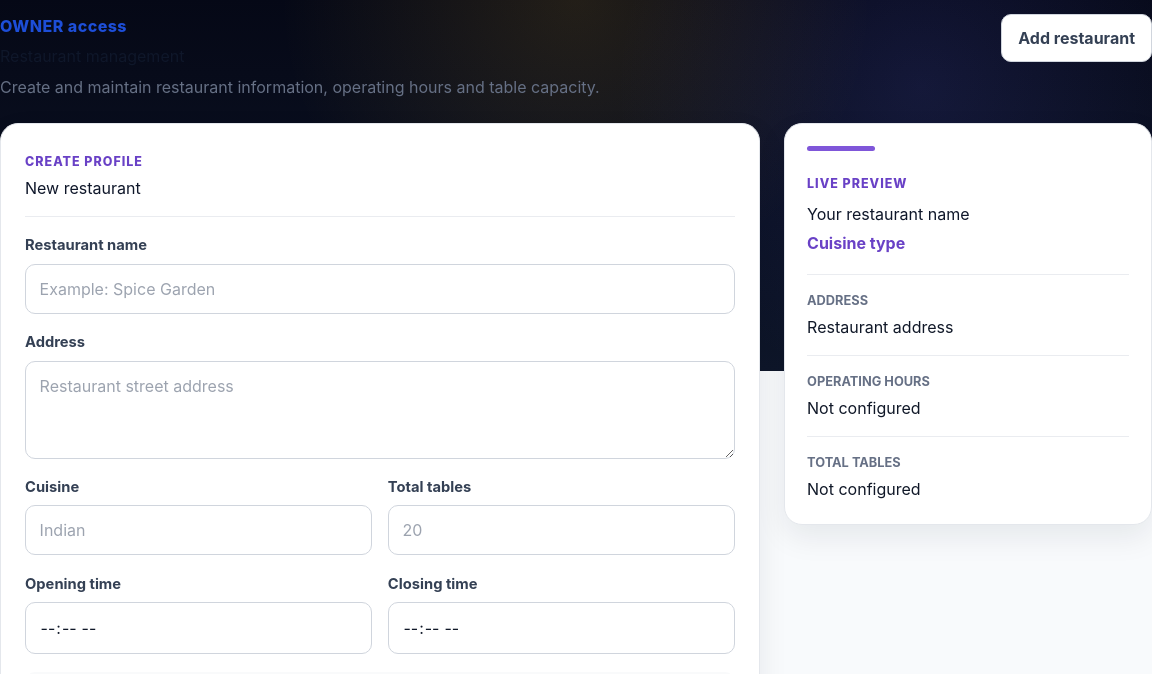
Test: OwnerPage › creates a restaurant and shows success state
In the field labelled "Restaurant name": coordinates (380, 289) [25, 264, 735, 314], type "New Restaurant"
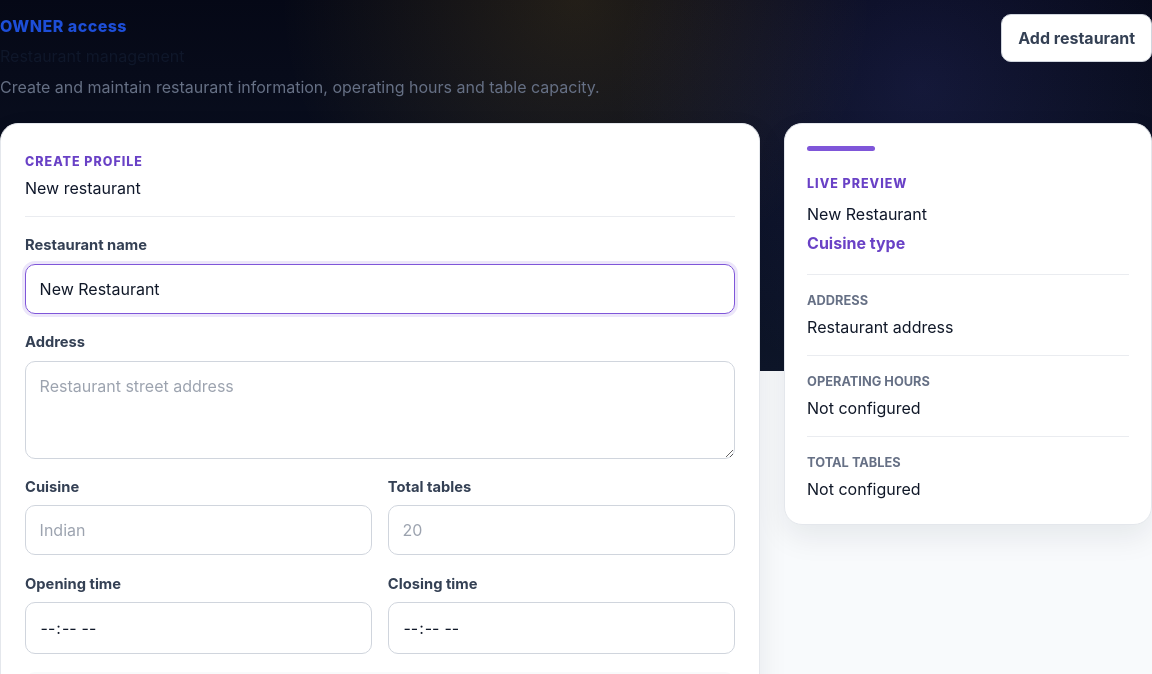
In the text box labelled "Address": coordinates (380, 410) [25, 360, 735, 458], type "45 Lake Road"
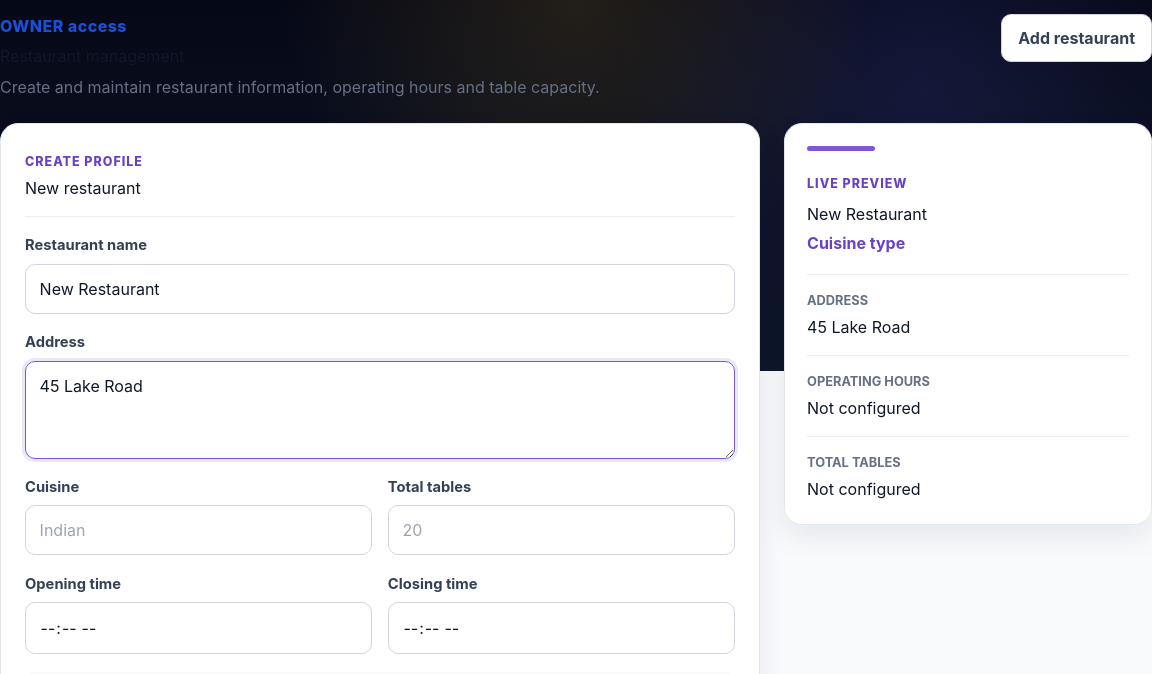
In the field labelled "Cuisine": coordinates (198, 530) [25, 505, 372, 555], type "Continental"
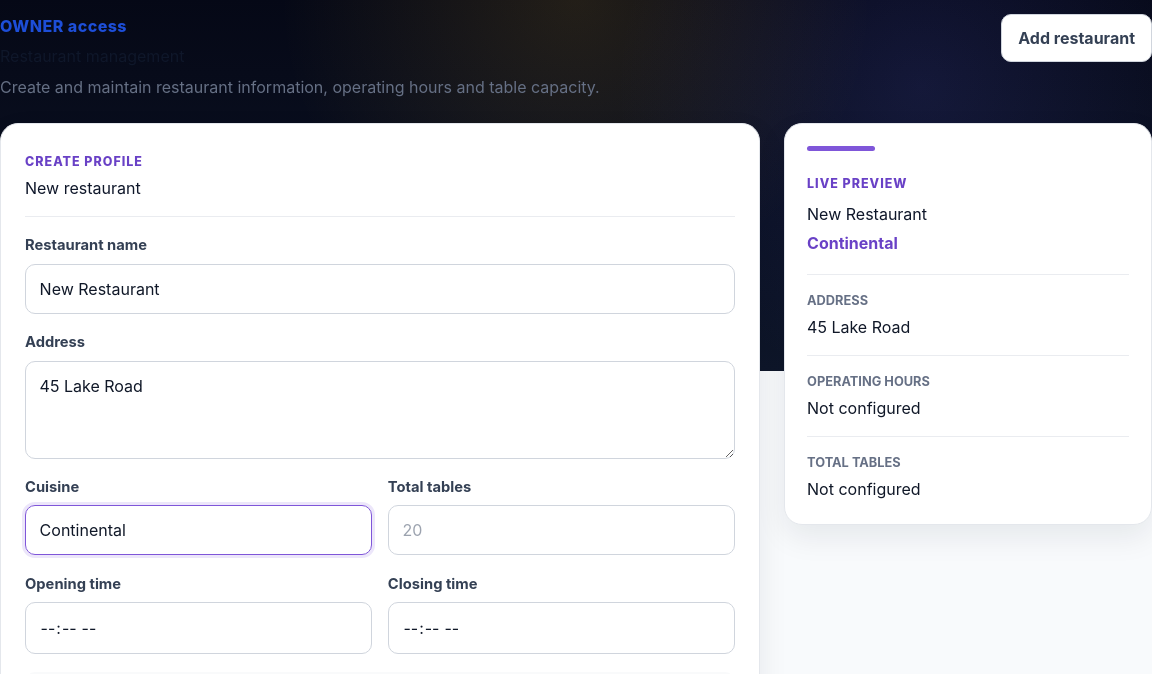
In the number field labelled "Total tables": coordinates (561, 530) [388, 505, 735, 555], type "18"
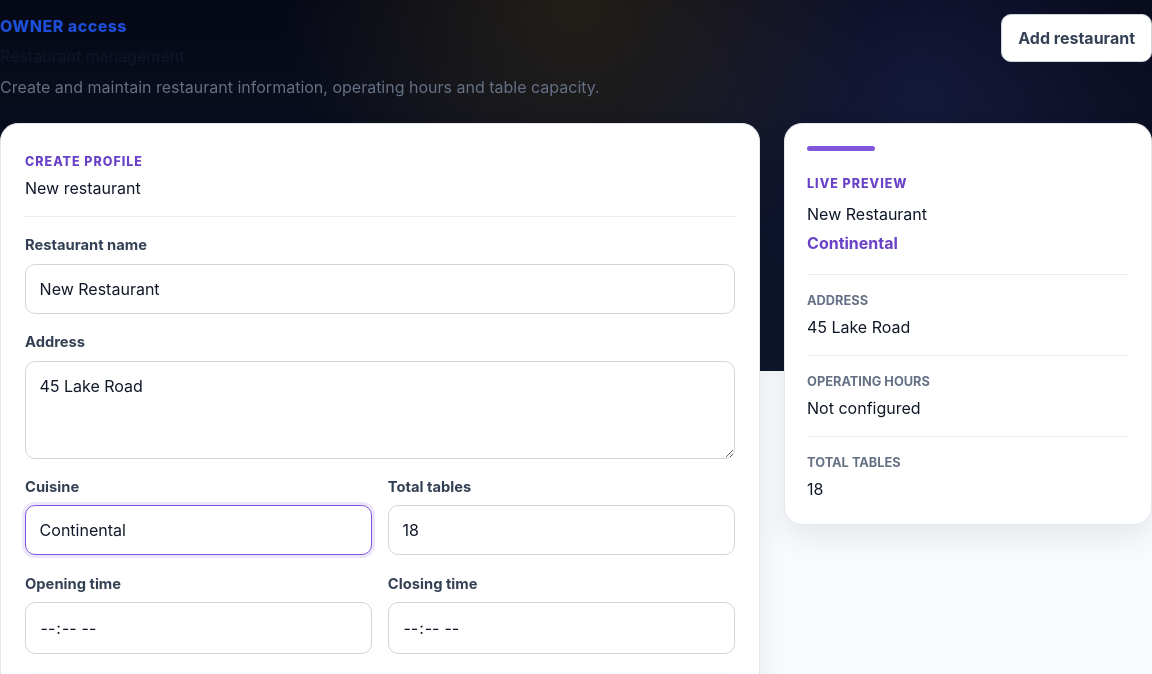
In the time field labelled "Opening time": coordinates (198, 628) [25, 602, 372, 654], type "10:00"
In the time field labelled "Closing time": coordinates (561, 628) [388, 602, 735, 654], type "22:00"
(page scrolled)
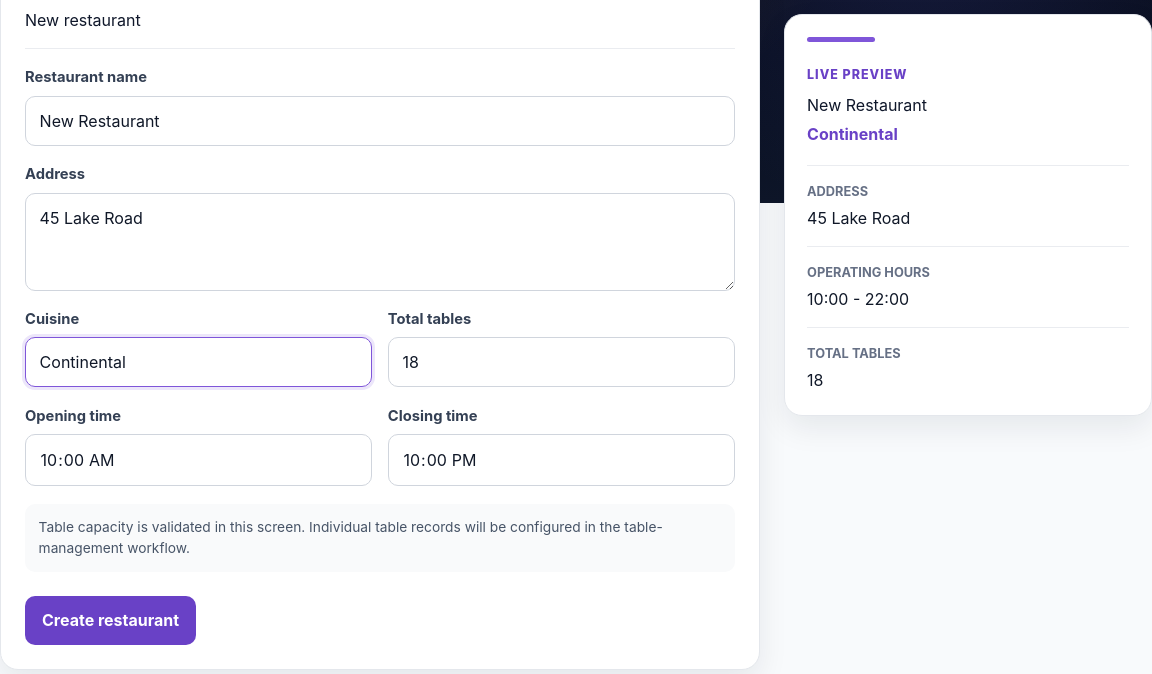
Click the button "Create restaurant": coordinates (111, 620) [25, 596, 196, 645]
(page scrolled)
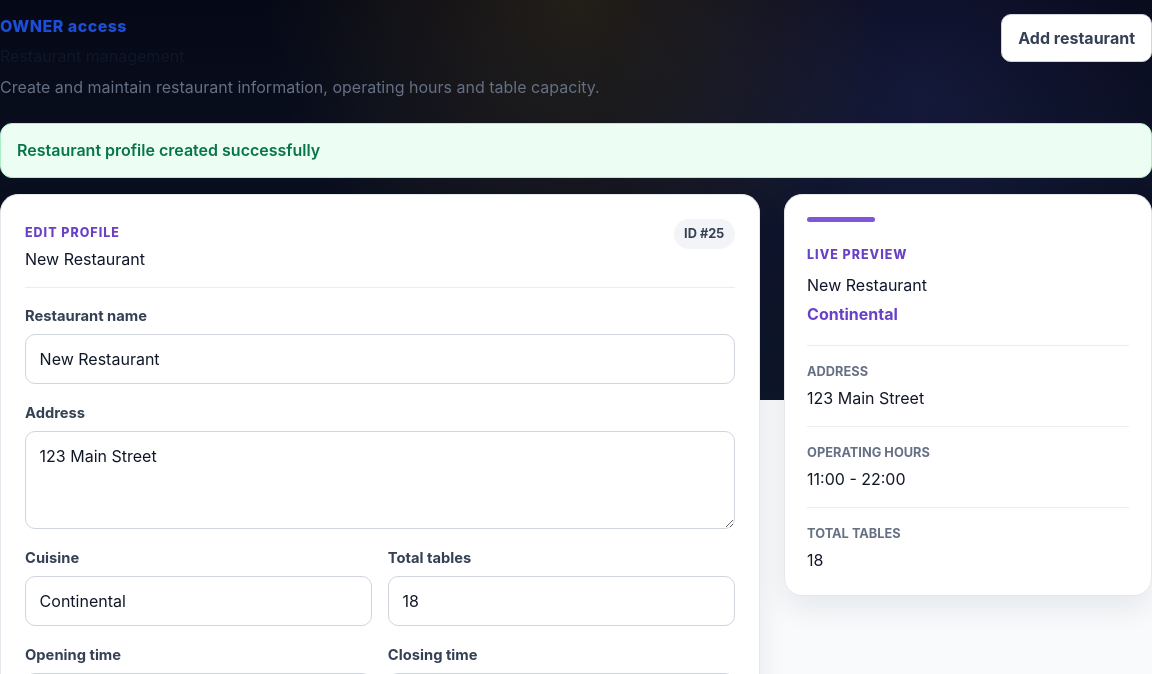
Now the text "Restaurant profile created successfully" is shown, box [0, 123, 1151, 178]
